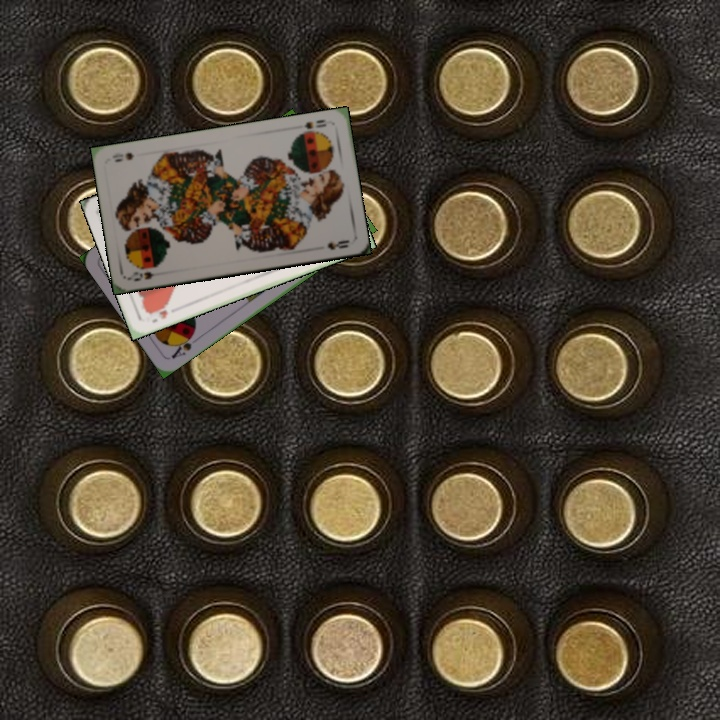HO: (141, 302, 170, 325)
SA: (167, 328, 198, 361)
SO: (127, 267, 156, 284), (301, 115, 329, 132)
